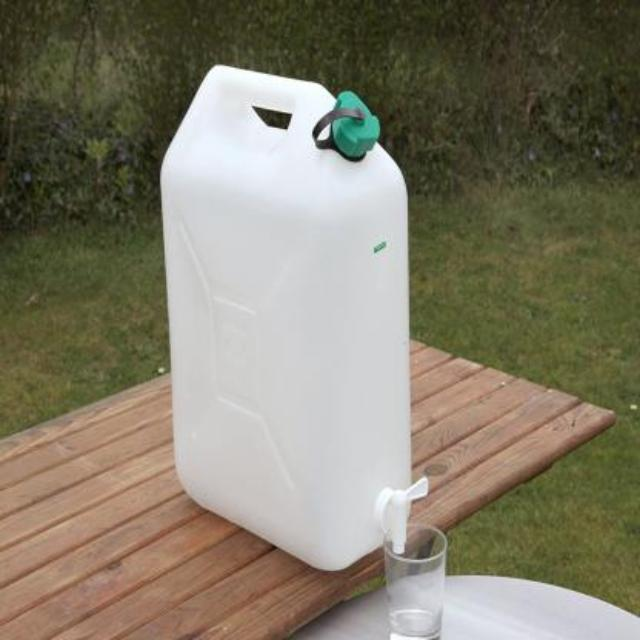chemical_plastic_gallon: (131, 44, 447, 598)
